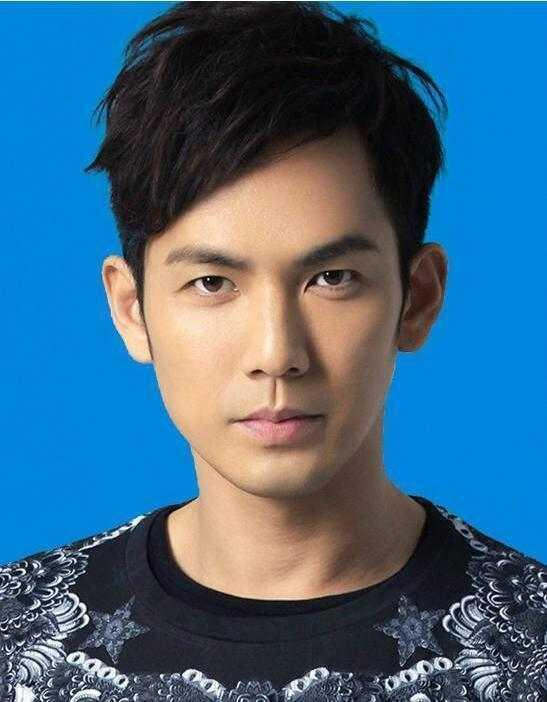unmask: (153, 222, 417, 478)
